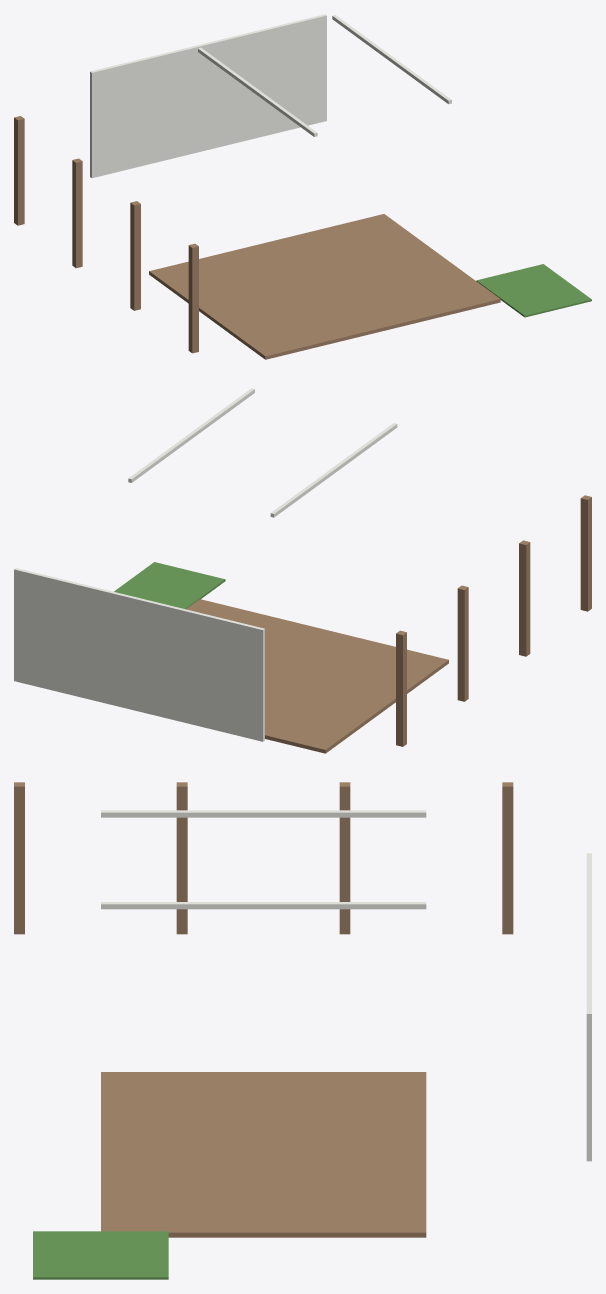
The model's file is zen_studio.glb.
3 views of the same model, one above another, from view 1: azimuth 30°, elevation 25°; view 2: azimuth 150°, elevation 25°; view 3: azimuth 270°, elevation 25° (orthographic). The views are drawn at different scales.
Visible parts, largest first — view 1: Floor, Wall_Main, Nature_Patch, Pillar_0, Pillar_1, Pillar_2, Pillar_3, Sky_Frame_L, Sky_Frame_R; view 2: Wall_Main, Floor, Nature_Patch, Pillar_0, Pillar_2, Pillar_1, Pillar_3, Sky_Frame_L, Sky_Frame_R; view 3: Floor, Nature_Patch, Sky_Frame_L, Sky_Frame_R, Wall_Main, Pillar_3, Pillar_0, Pillar_1, Pillar_2.
Boxes of the visible parts, x1,y1,x2,y2 form: Floor: (149,214,500,359); Wall_Main: (90,14,326,178); Nature_Patch: (476,264,591,317); Pillar_0: (188,243,198,353); Pillar_1: (130,201,140,310); Pillar_2: (72,158,82,268); Pillar_3: (14,116,24,225); Sky_Frame_L: (198,47,317,136); Sky_Frame_R: (332,15,451,104); Wall_Main: (14,568,264,741); Floor: (186,599,448,753); Nature_Patch: (114,562,225,609); Pillar_0: (580,495,591,611); Pillar_2: (457,585,468,701); Pillar_1: (519,540,530,656); Pillar_3: (396,630,406,746); Sky_Frame_L: (270,423,397,517); Sky_Frame_R: (128,388,254,482); Floor: (101,1072,426,1237); Nature_Patch: (33,1231,168,1279); Sky_Frame_L: (101,810,426,817); Sky_Frame_R: (101,902,426,909); Wall_Main: (586,853,591,1161); Pillar_3: (502,782,513,934); Pillar_0: (14,782,24,934); Pillar_1: (176,782,187,934); Pillar_2: (339,782,350,934).
Size of the model in its own units: 12.1 by 6.1 by 10.65.
